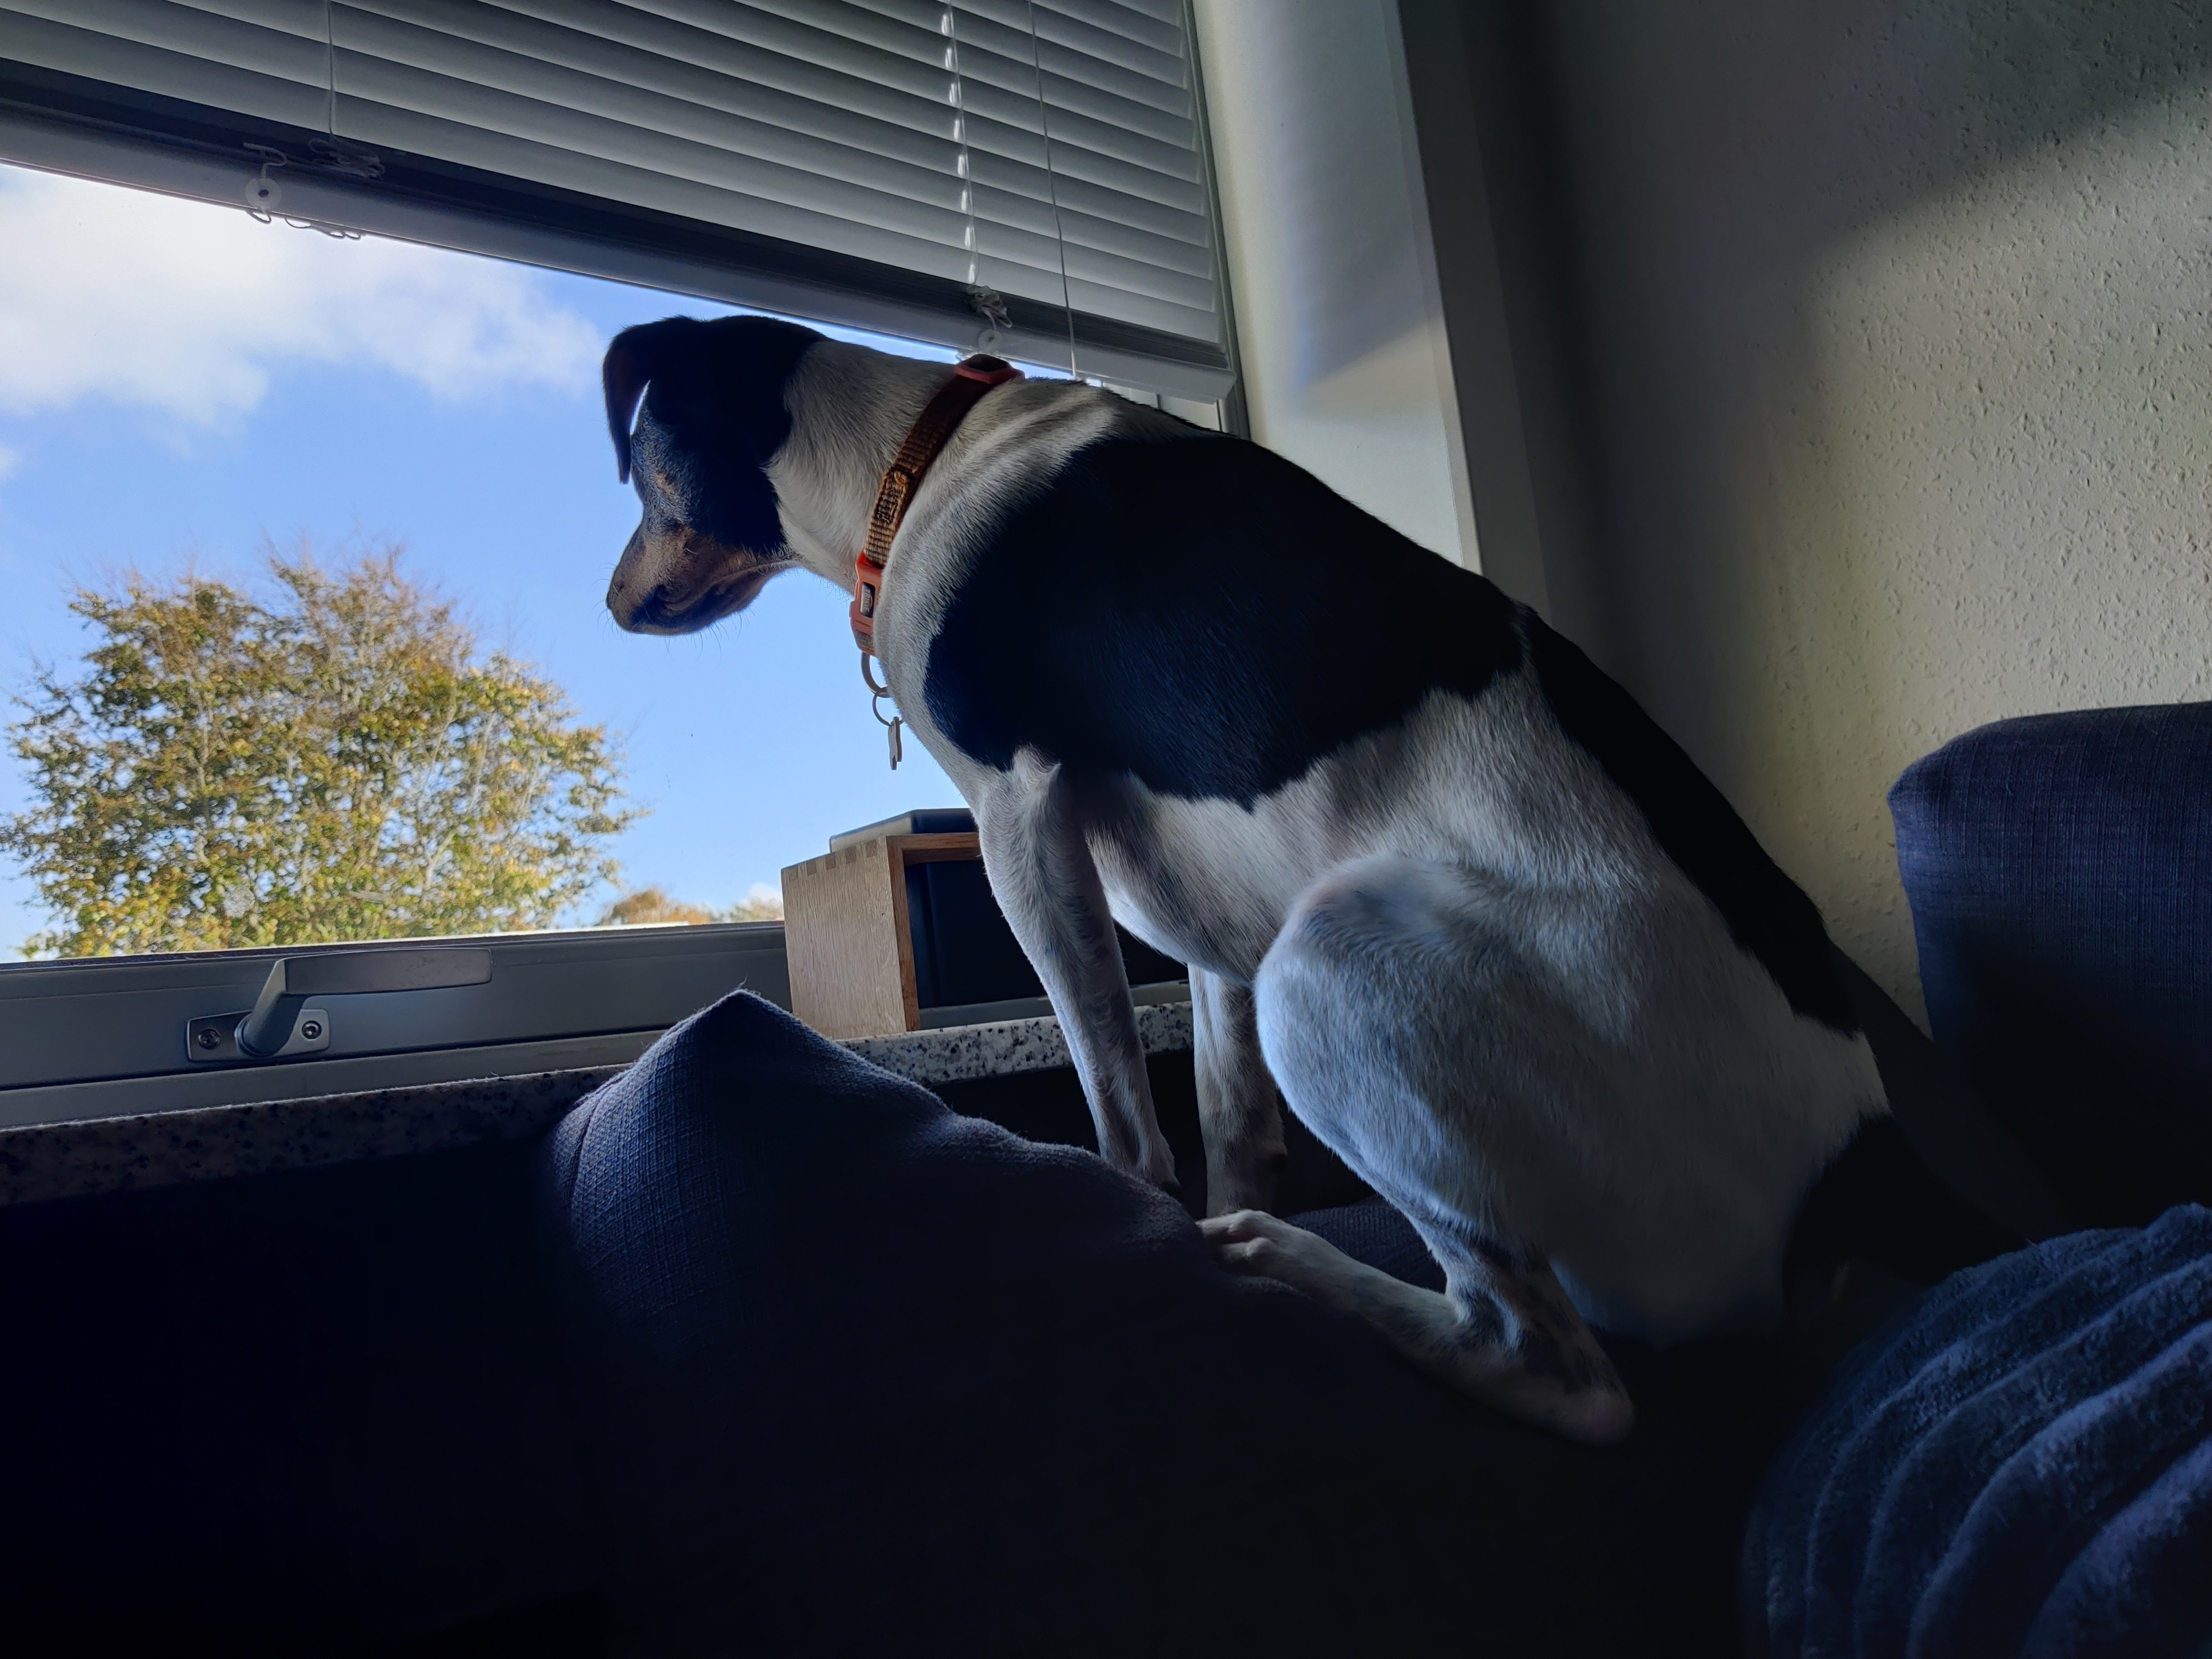Dog: (564, 291, 2029, 1450)
